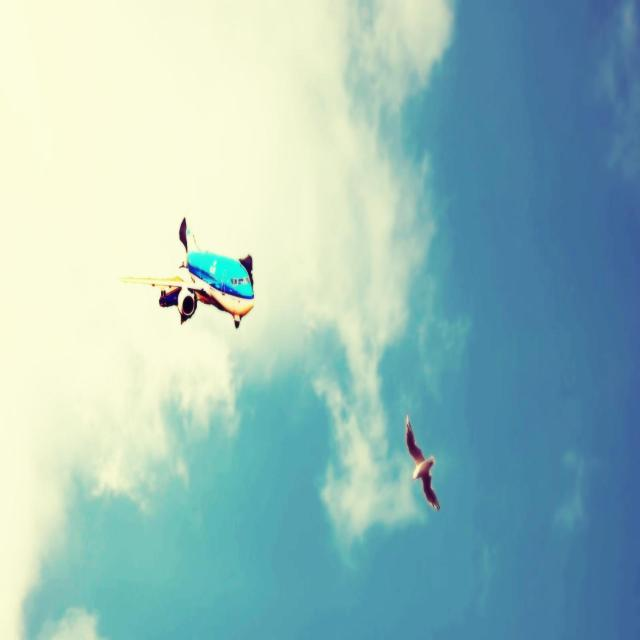airplane: (120, 216, 255, 329)
